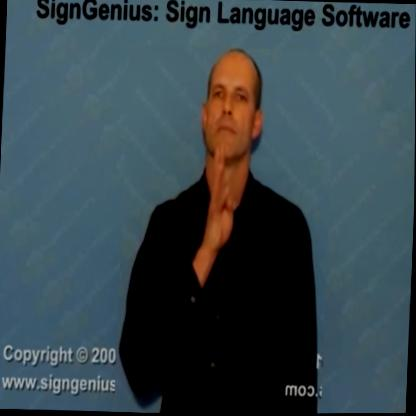Talk: (114, 44, 336, 415)
